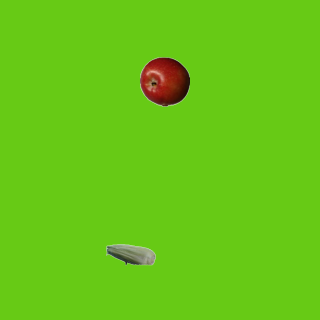Apple Braeburn: (139, 56, 189, 106)
Corn Husk: (105, 229, 155, 279)
